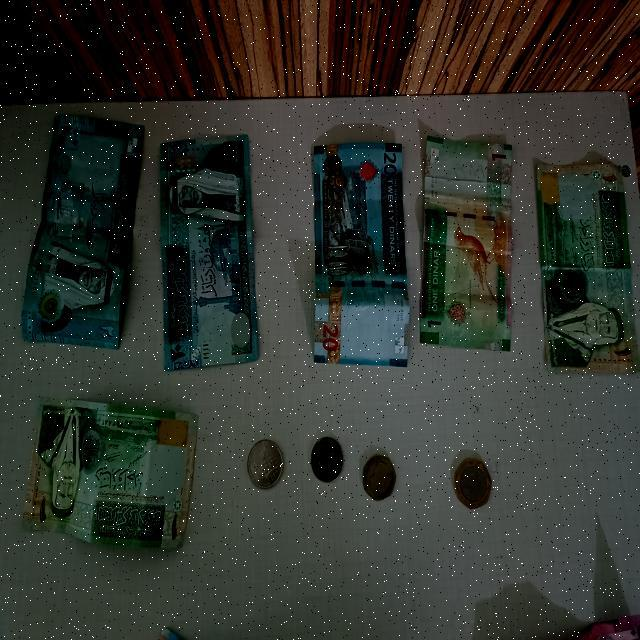1-dinar: (24, 402, 202, 554), (533, 153, 640, 374), (420, 135, 518, 353)
10-coins: (248, 440, 284, 490)
20-dinar: (22, 110, 148, 348), (159, 136, 261, 372), (310, 138, 412, 370)
25-coins: (362, 456, 396, 500)
5-coins: (312, 433, 344, 483)
50-coins: (452, 456, 492, 509)
